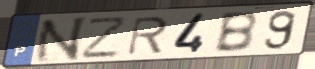4: (170, 11, 209, 56)
9: (262, 9, 298, 51)
B: (212, 9, 259, 54)
N: (32, 15, 91, 64)
R: (125, 15, 171, 57)
Z: (80, 15, 130, 61)
